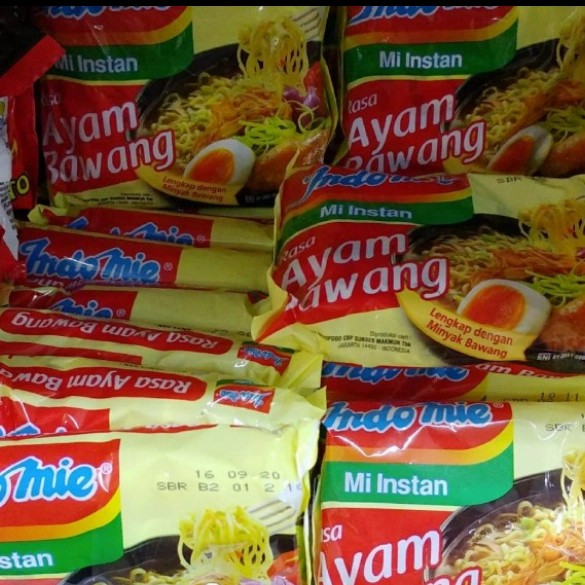Indomie Ayam Bawang (69g): (25, 7, 321, 212), (274, 175, 572, 367), (1, 434, 311, 584), (330, 403, 584, 584), (342, 9, 584, 167)
